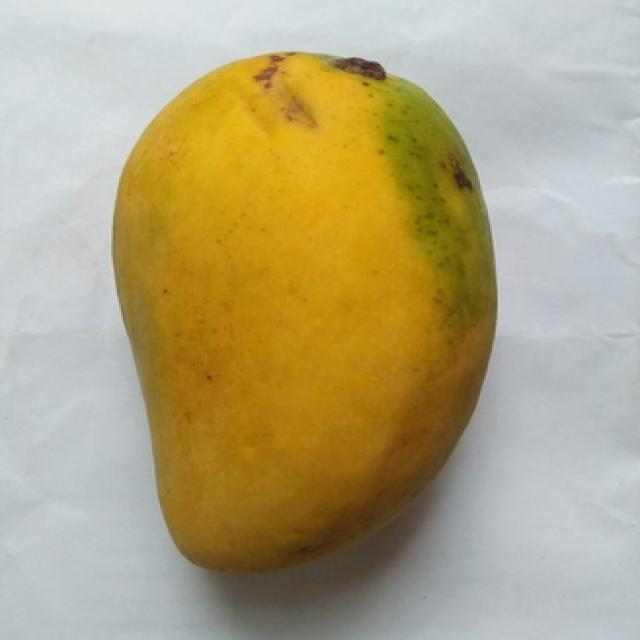Mango: (115, 53, 494, 570)
